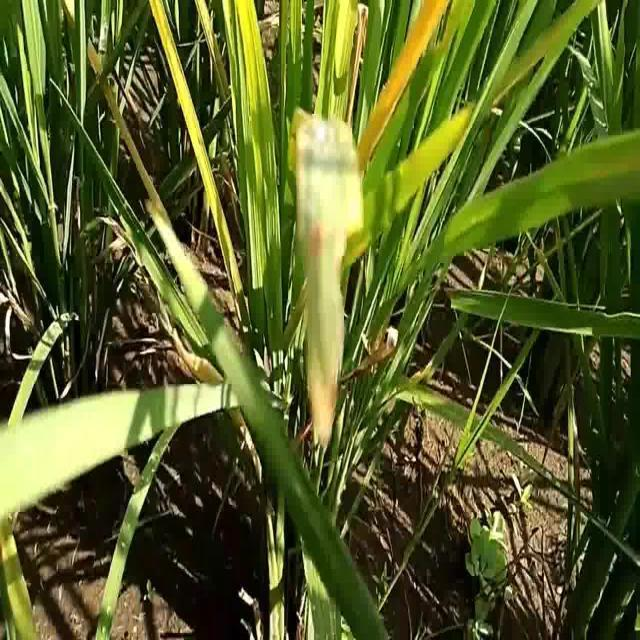Rice Tungro: (361, 4, 452, 159), (147, 3, 213, 190), (231, 1, 279, 188)
